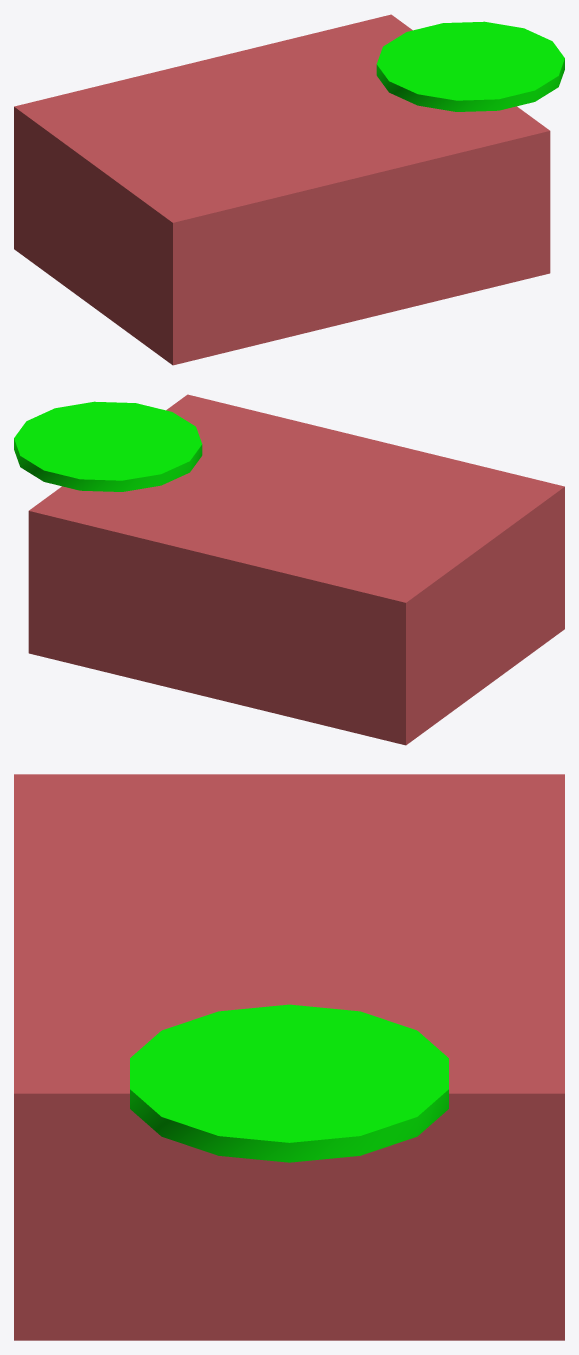
Rendered from Offshore_platform_Shape1.glb.
The picture shows the model from 3 angles, top to bottom: view 1: azimuth 30°, elevation 25°; view 2: azimuth 150°, elevation 25°; view 3: azimuth 270°, elevation 25°; orthographic projection. The views are drawn at different scales.
Visible parts, largest first — view 1: 3D Solid (×2); view 2: 3D Solid (×2); view 3: 3D Solid (×2).
Boxes of the visible parts, <box> form: 3D Solid (×2): <box>14,14,564,365</box>; 3D Solid (×2): <box>14,394,564,745</box>; 3D Solid (×2): <box>14,774,564,1340</box>.
Bounding box in the file's own units: 84.23 × 27 × 50.5.
